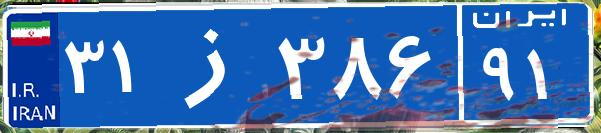1: (110, 28, 158, 105), (525, 38, 570, 115)
3: (273, 28, 330, 110), (57, 26, 110, 107)
6: (385, 28, 445, 110)
8: (330, 28, 385, 110)
9: (475, 38, 525, 113)
ز: (158, 15, 273, 115)
